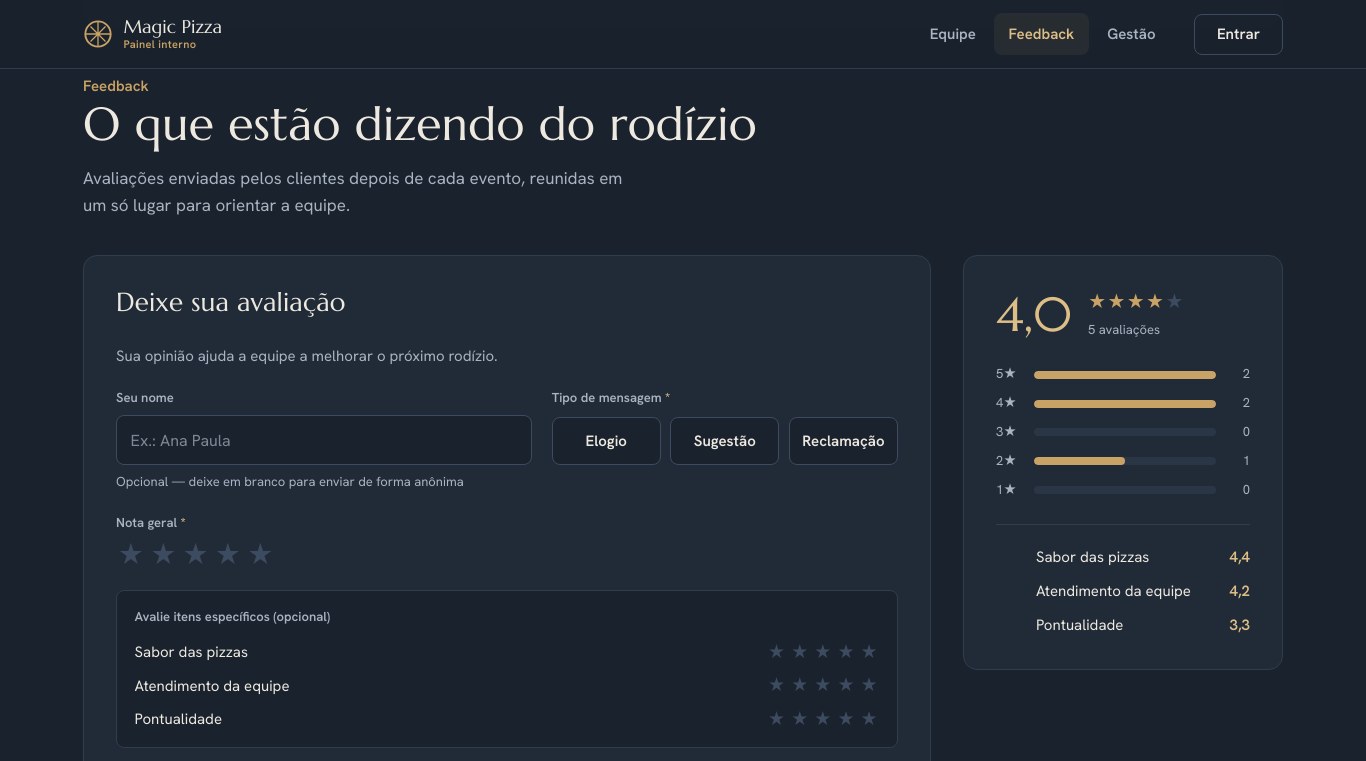
Test: Aba de Feedback › envia uma nova avaliação e ela aparece no topo da lista
(page scrolled)
Type "Patrícia Nunes" into the field labelled "Seu nome".
click(324, 440); type("Patrícia Nunes")  # box [116, 415, 532, 465]
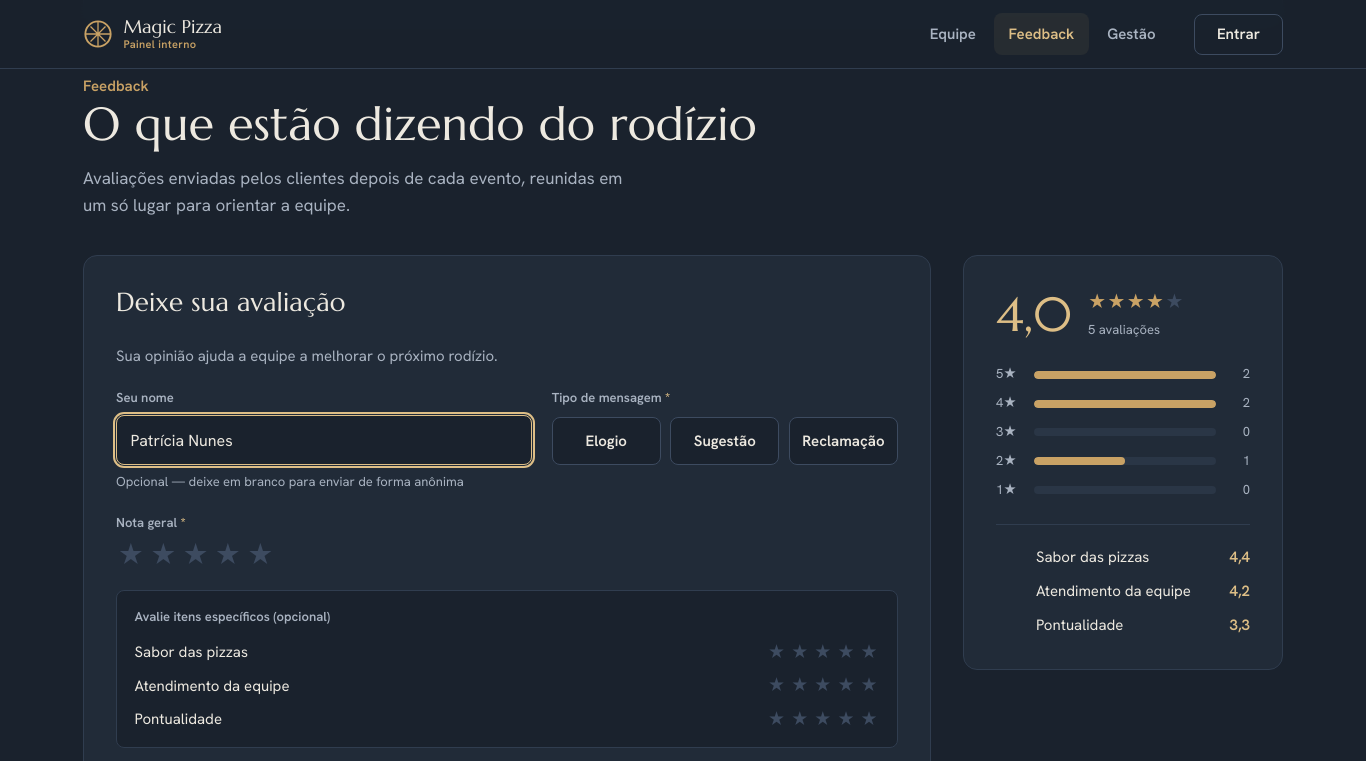
Click the radio button labelled "Elogio".
click(606, 441)  # box [552, 417, 661, 465]
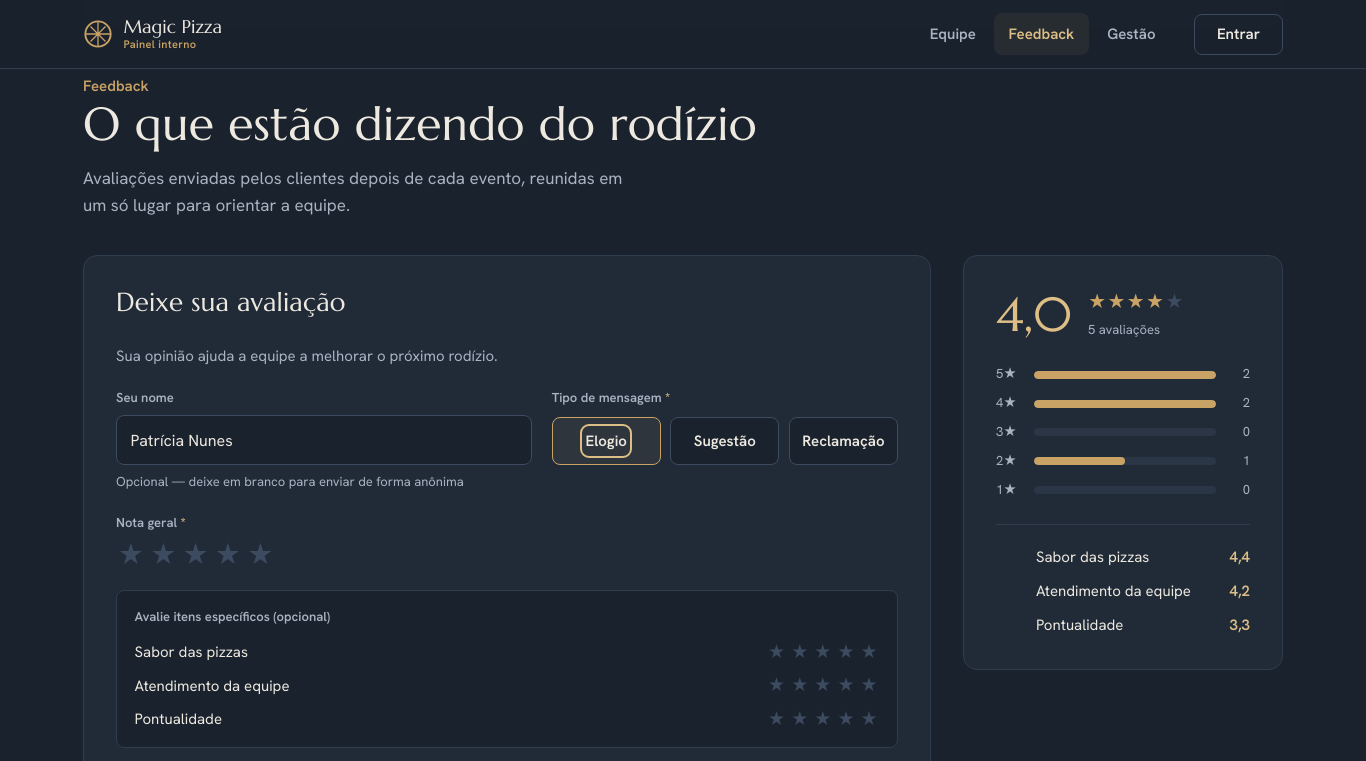
Click the 5th radio button titled "Excelente".
click(260, 556)  # box [245, 541, 275, 570]
(page scrolled)
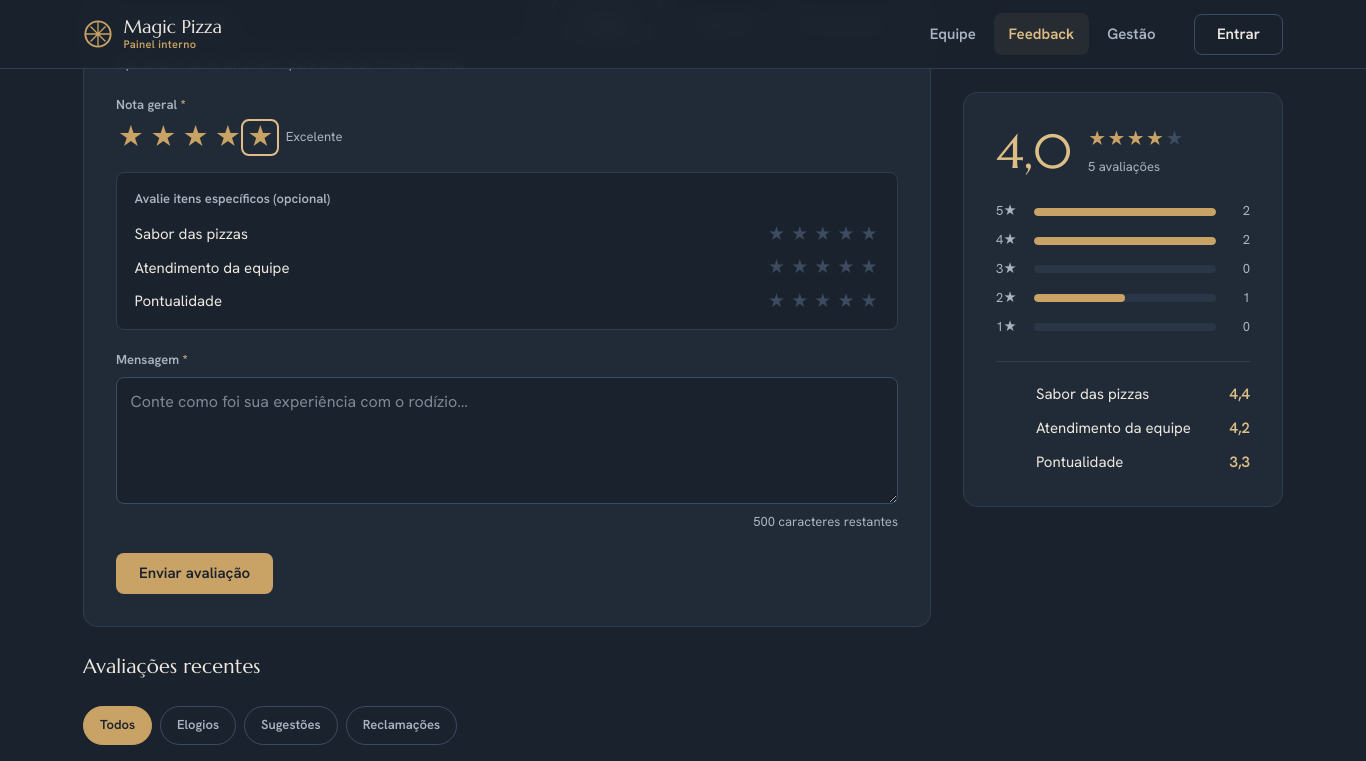
Type "A pizza de calabresa estava excelente e o atendimento foi muito atencioso do início ao fim." into the text box labelled "Mensagem *".
click(507, 441); type("A pizza de calabresa estava excelente e o atendimento foi muito atencioso do início ao fim.")  # box [116, 377, 898, 504]
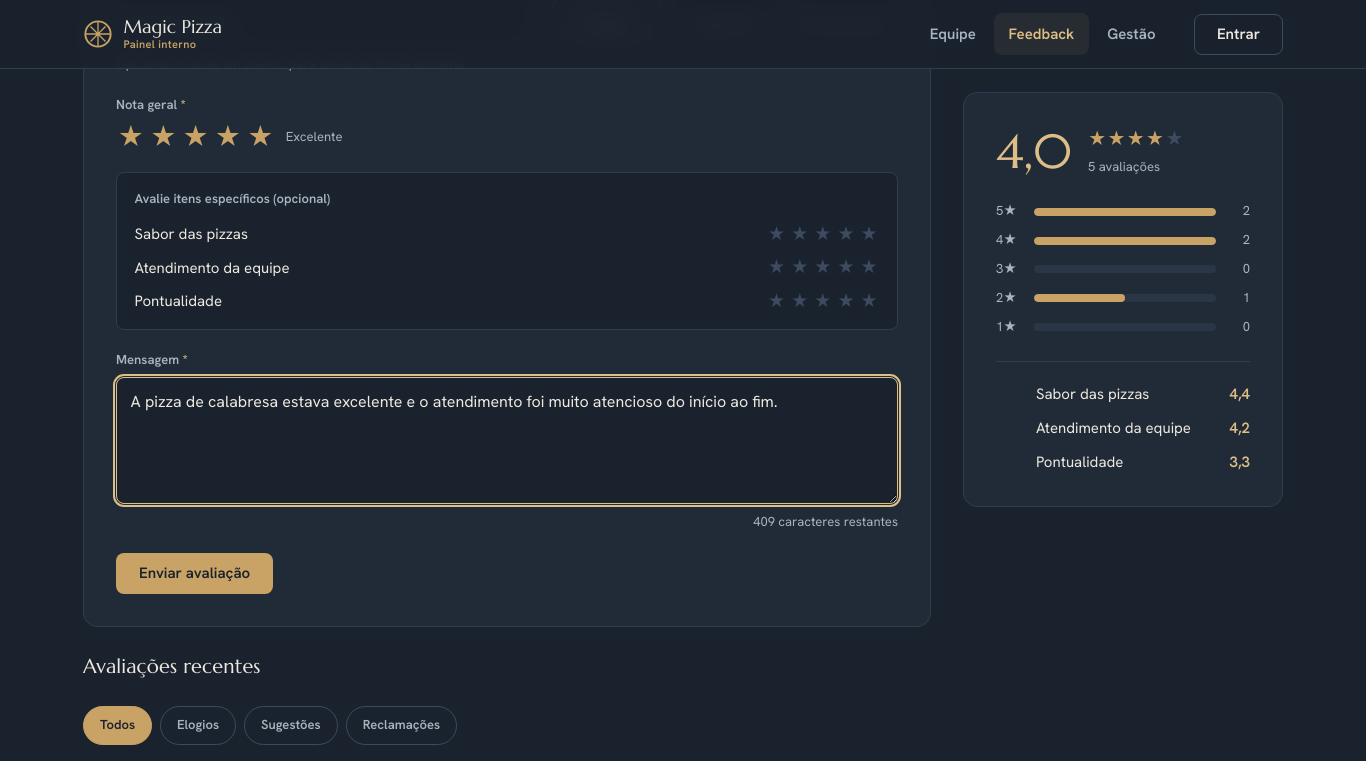
Click the button "Enviar avaliação".
click(195, 573)  # box [116, 553, 273, 594]
(page scrolled)
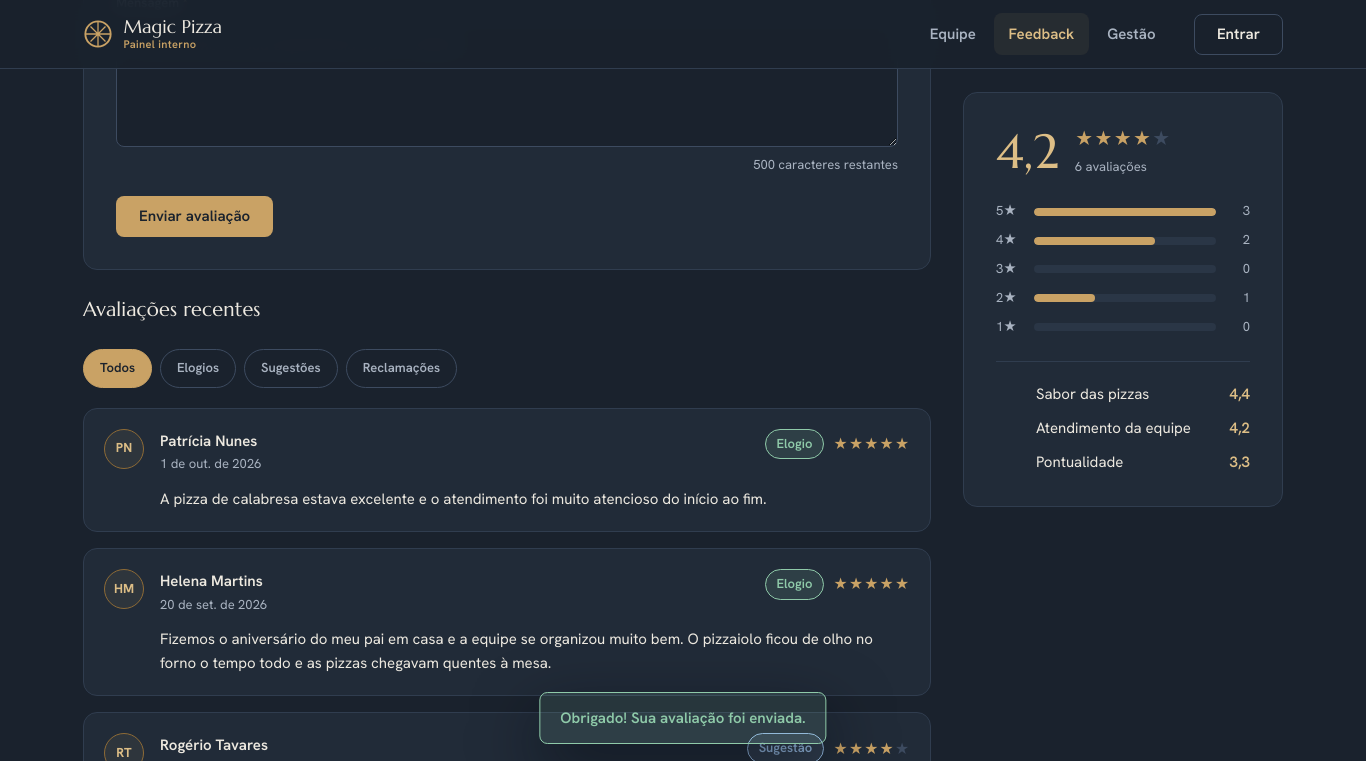
Result: the text "Patrícia Nunes" is shown at [160, 429, 262, 453]
